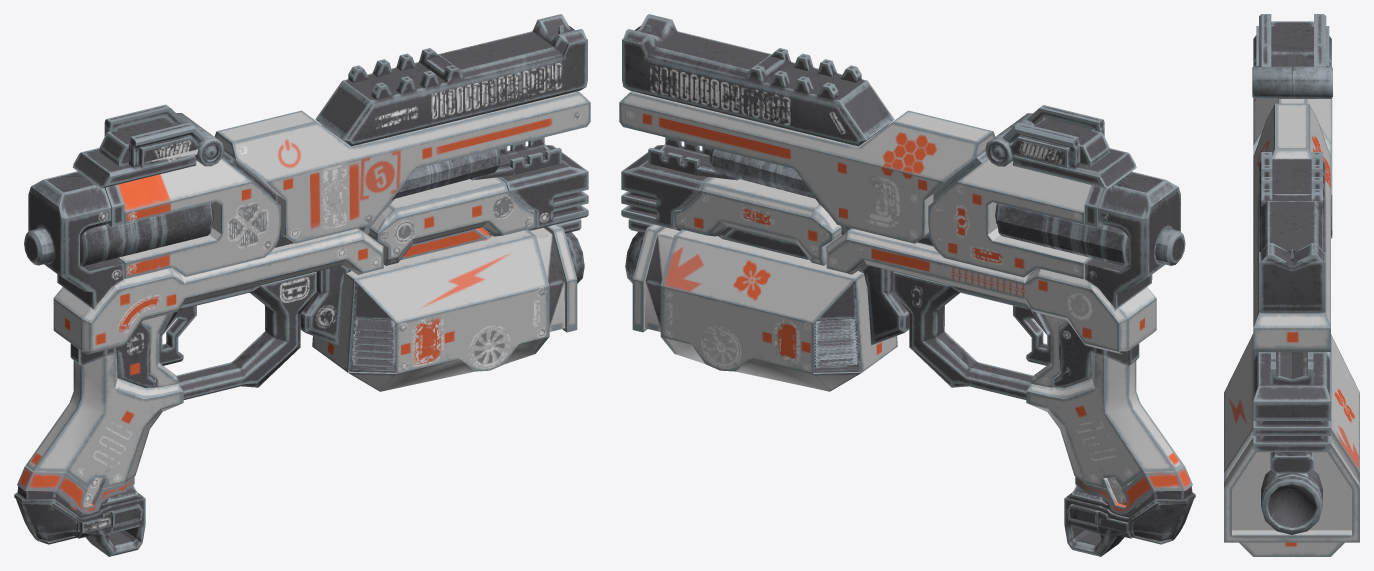
The picture shows the model from 3 angles, left to right: view 1: azimuth 30°, elevation 25°; view 2: azimuth 150°, elevation 25°; view 3: azimuth 270°, elevation 25°; orthographic projection. The views are drawn at different scales.
Visible parts, largest first — view 1: gun_low_02 - Defaultred_0; view 2: gun_low_02 - Defaultred_0; view 3: gun_low_02 - Defaultred_0.
Boxes of the visible parts, x1,y1,x2,y2 form: gun_low_02 - Defaultred_0: [14, 14, 590, 556]; gun_low_02 - Defaultred_0: [619, 14, 1195, 556]; gun_low_02 - Defaultred_0: [1224, 14, 1359, 556].
Bounding box in the file's own units: 26.73 × 19.15 × 5.23.
Materials: 1 (1 with a texture image).
